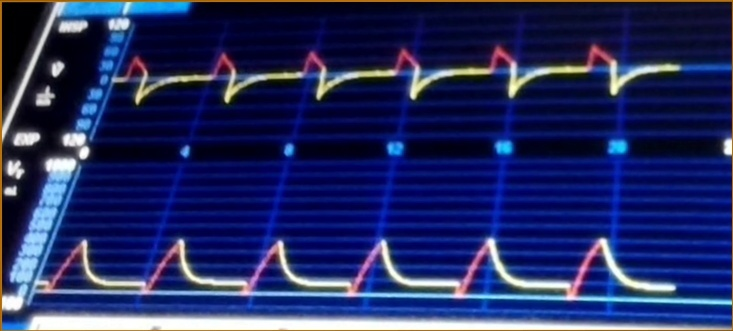Flow: (123, 30, 685, 128)
Leakage Volume: (37, 227, 675, 313)
